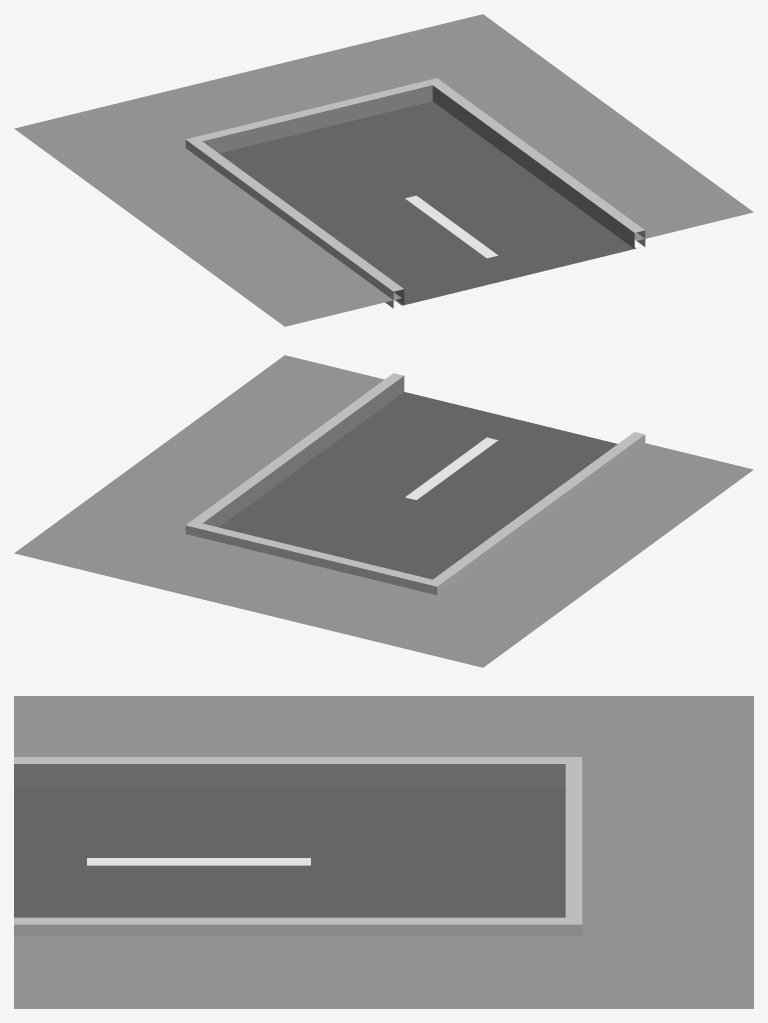
Rendered from road_tile_1x1_012.glb.
The picture shows the model from 3 angles, top to bottom: view 1: azimuth 30°, elevation 25°; view 2: azimuth 150°, elevation 25°; view 3: azimuth 270°, elevation 25°; orthographic projection. The views are drawn at different scales.
Parts seen in each view (by area): view 1: road_tile_1x1_012; view 2: road_tile_1x1_012; view 3: road_tile_1x1_012.
Boxes of the visible parts, left/top/right/bottom form: road_tile_1x1_012: left=14, top=14, right=753, bottom=326; road_tile_1x1_012: left=14, top=355, right=753, bottom=667; road_tile_1x1_012: left=14, top=696, right=753, bottom=1008.
Size of the model in its own units: 8 by 0.2778 by 8.
1 material, 1 textured.
